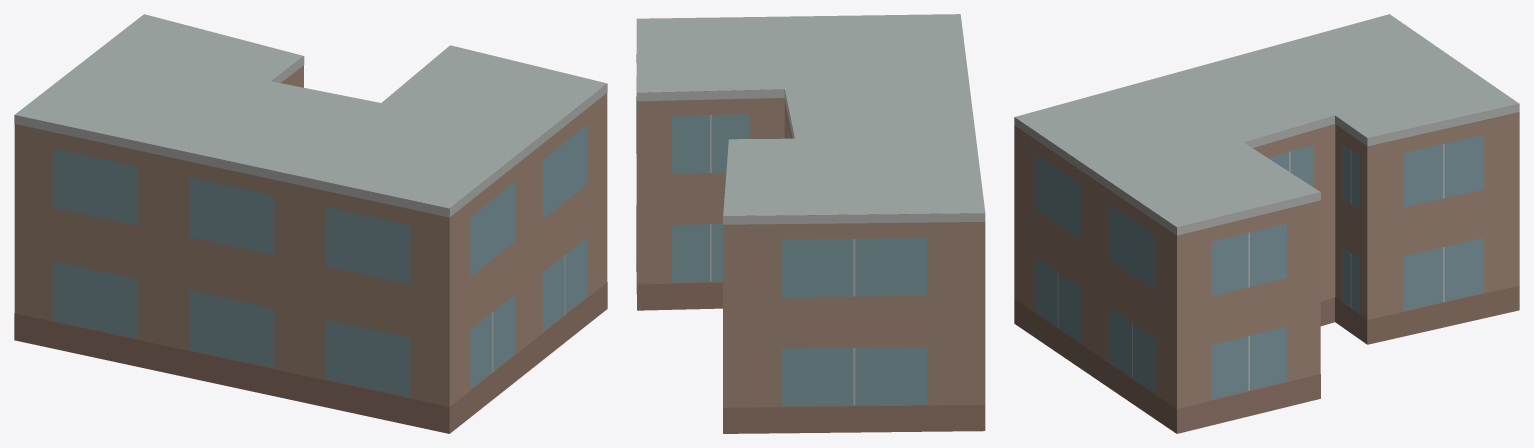
The model's file is survey-upis-32908240.glb.
The picture shows the model from 3 angles, left to right: view 1: azimuth 30°, elevation 25°; view 2: azimuth 150°, elevation 25°; view 3: azimuth 270°, elevation 25°; orthographic projection. The views are drawn at different scales.
Parts seen in each view (by area): view 1: survey-upis-32908240.tmp; view 2: survey-upis-32908240.tmp; view 3: survey-upis-32908240.tmp.
Boxes of the visible parts, x1,y1,x2,y2 form: survey-upis-32908240.tmp: [14, 14, 607, 433]; survey-upis-32908240.tmp: [636, 14, 985, 433]; survey-upis-32908240.tmp: [1014, 14, 1519, 433].
Bounding box in the file's own units: 13.52 × 6.1 × 13.53.
